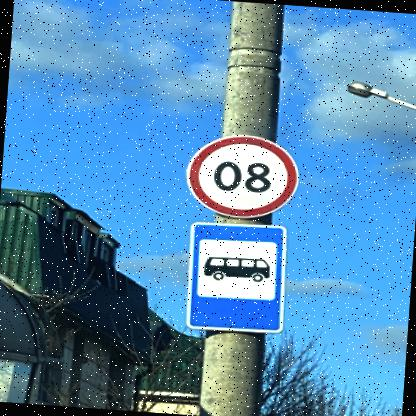speedlimit: (185, 131, 303, 221)
